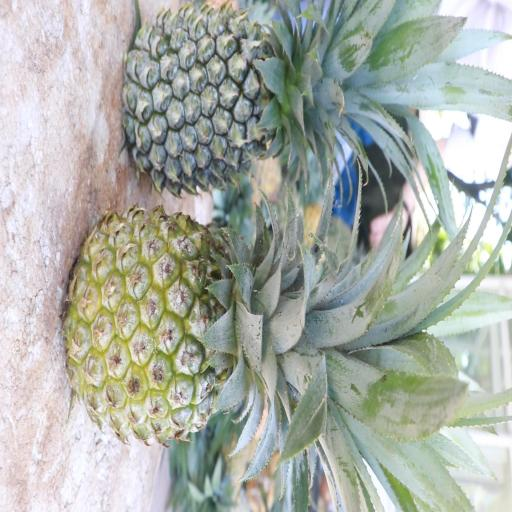------------------------------: (59, 206, 352, 453)
